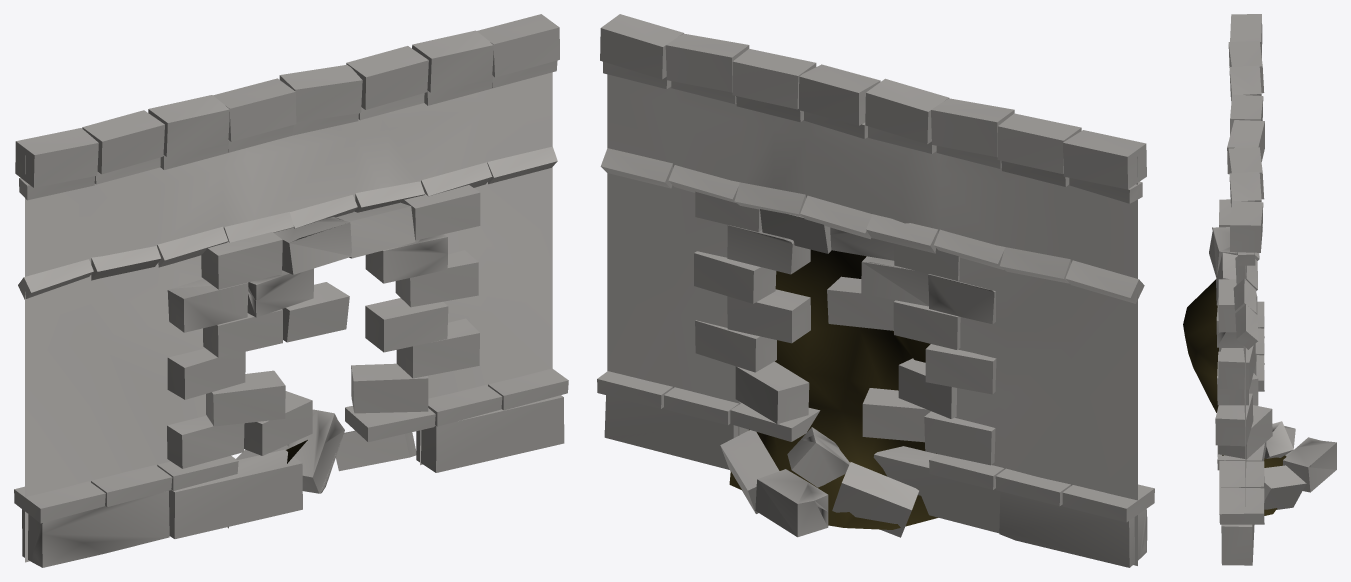
File: wall_bricksBroken_LOW.FBX
The picture shows the model from 3 angles, left to right: view 1: azimuth 30°, elevation 25°; view 2: azimuth 150°, elevation 25°; view 3: azimuth 270°, elevation 25°; orthographic projection. The views are drawn at different scales.
Visible parts, largest first — view 1: wall_bricksBroken_LOW; view 2: wall_bricksBroken_LOW; view 3: wall_bricksBroken_LOW.
Boxes of the visible parts, bbox=[...] form: wall_bricksBroken_LOW: bbox=[14, 14, 568, 567]; wall_bricksBroken_LOW: bbox=[597, 14, 1154, 567]; wall_bricksBroken_LOW: bbox=[1183, 14, 1336, 565].
Size of the model in its own units: 8.02 by 6.21 by 2.45.
